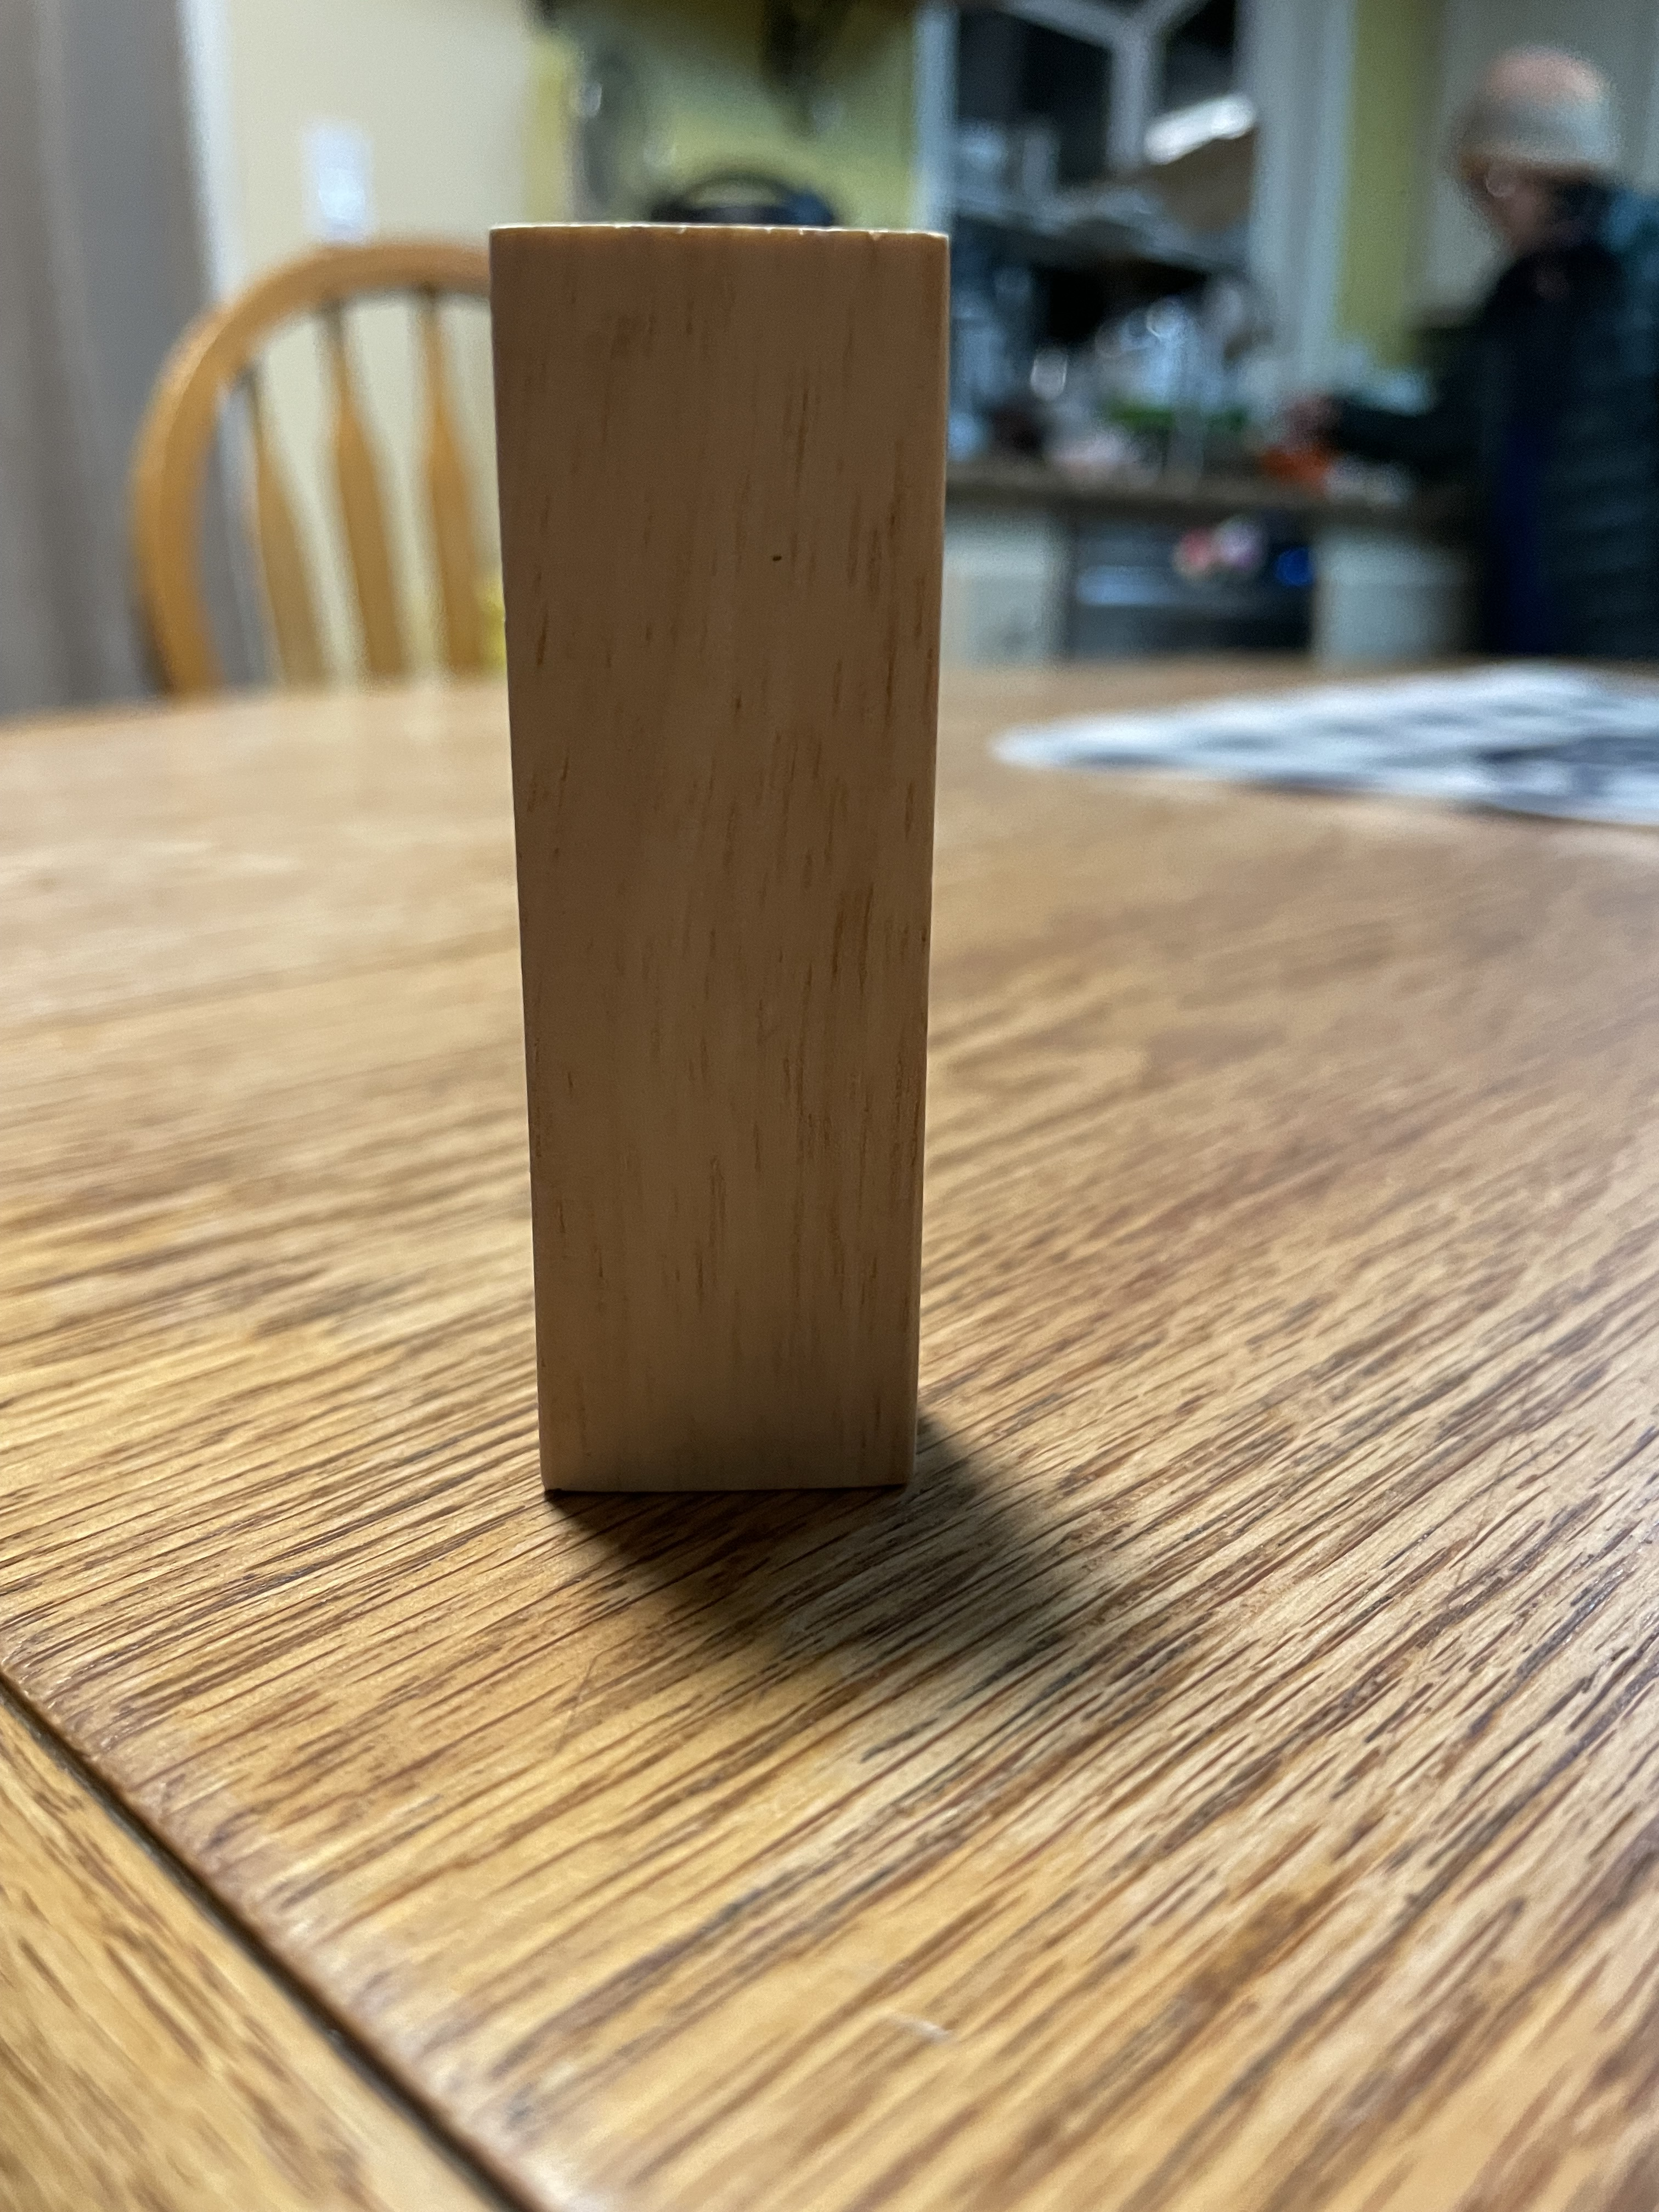jenga: (477, 212, 941, 1491)
